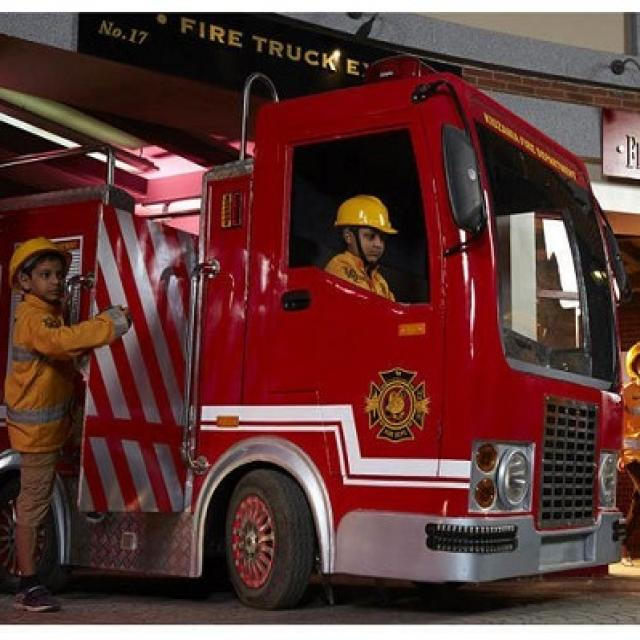emergency: (0, 77, 629, 606)
